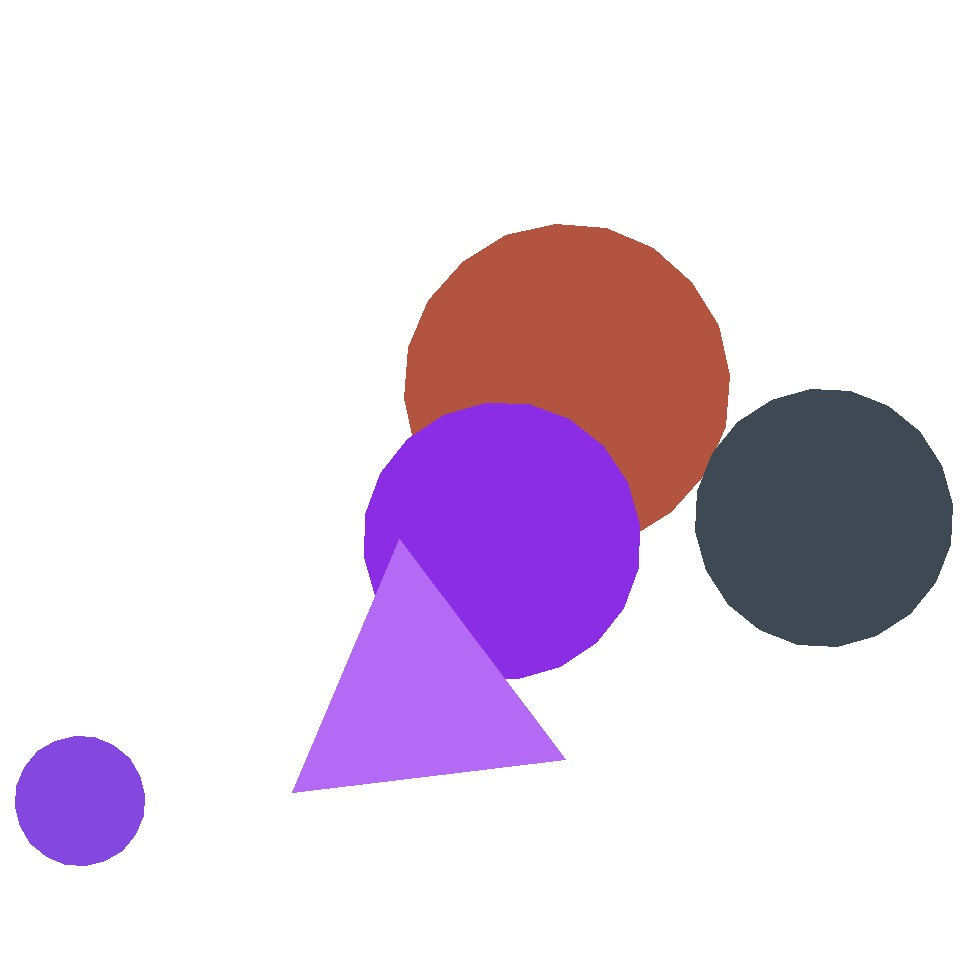circle: (283, 570, 556, 824), (86, 324, 316, 546), (403, 462, 571, 655), (90, 646, 274, 816)
square: (130, 696, 360, 927), (212, 310, 350, 448)
triangle: (404, 224, 730, 550), (365, 404, 640, 678), (524, 320, 796, 594), (695, 390, 952, 646), (15, 736, 144, 865)
